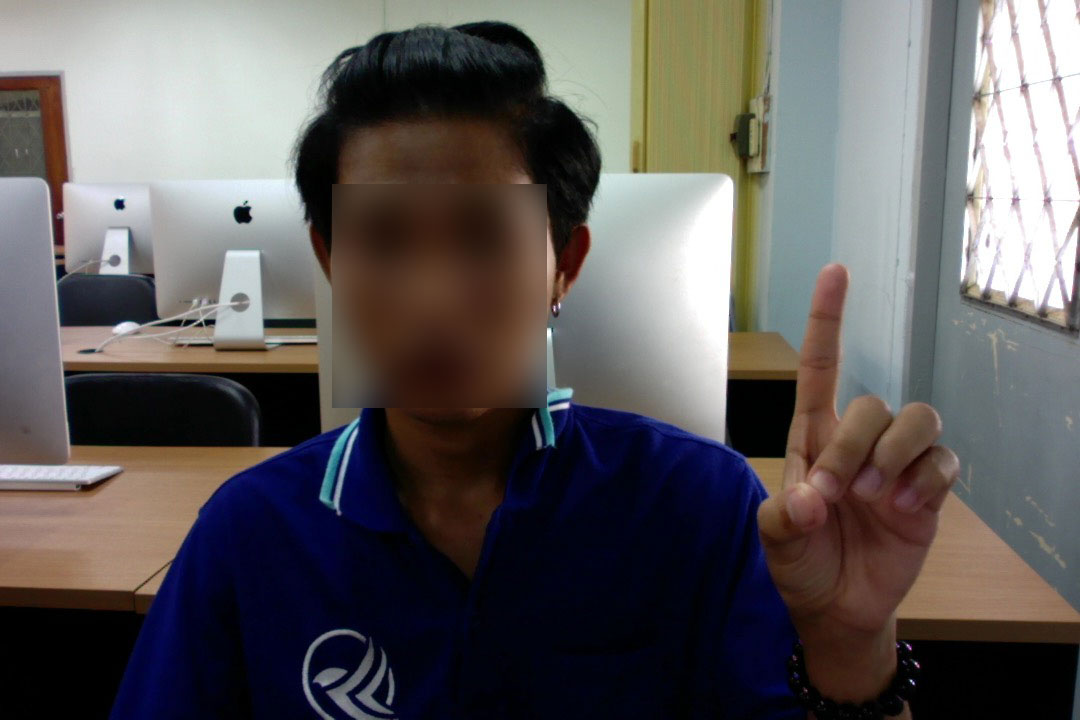dor: (746, 246, 962, 658)
